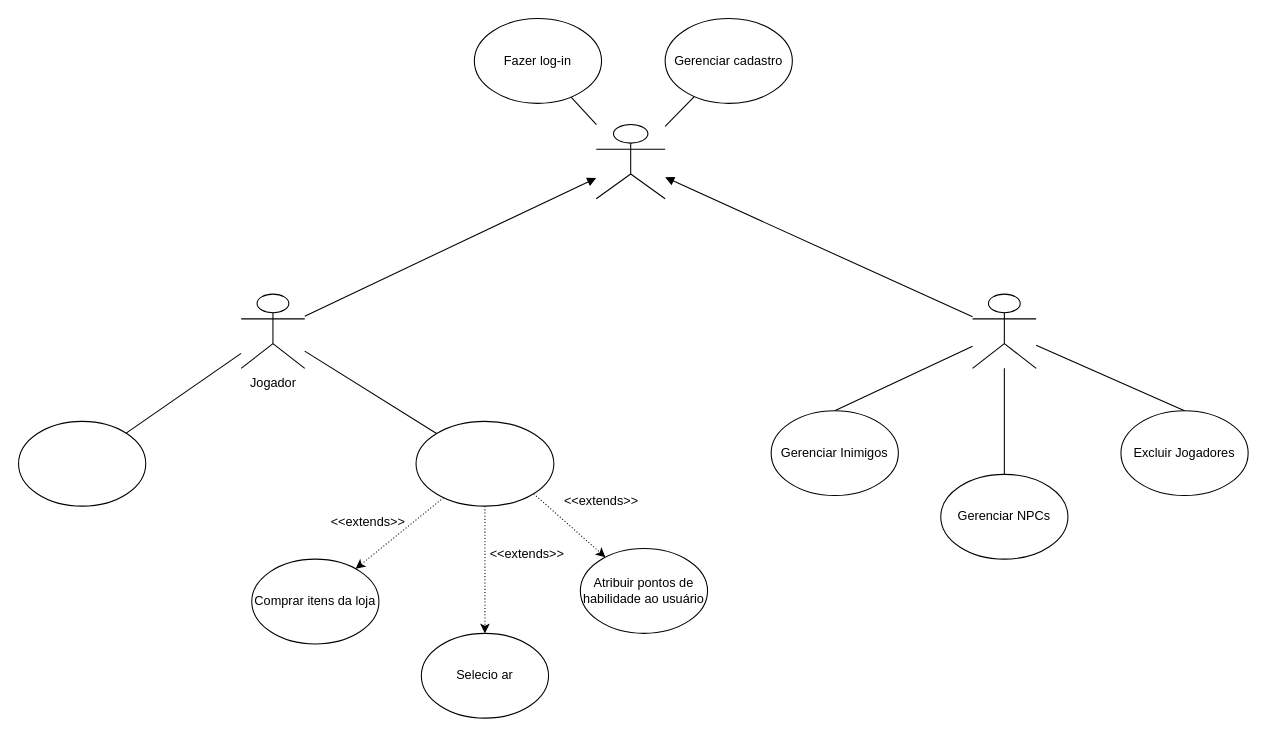
Image size: 1267x737. Some labels were removed from this diagram. The shapes that lost their labels are listed below. From the top down, each one's box as (x1, y1, x2, y2) in pixels, then its label:
(595, 123, 665, 199): User
(971, 293, 1036, 368): Adm
(17, 420, 146, 506): Excluir save
(415, 420, 554, 506): Iniciar jogo
